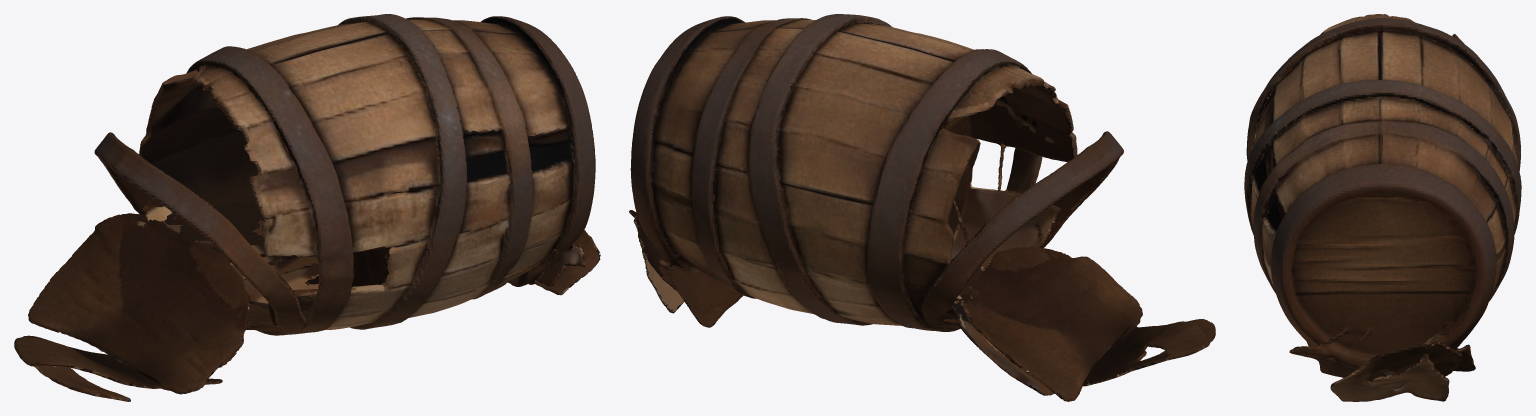
3 renders of one model, left to right at view 1: azimuth 30°, elevation 25°; view 2: azimuth 150°, elevation 25°; view 3: azimuth 270°, elevation 25°, orthographic. The views are drawn at different scales.
Parts seen in each view (by area): view 1: Hy21_Mesh.obj; view 2: Hy21_Mesh.obj; view 3: Hy21_Mesh.obj.
Part boxes in pixels (<box>): Hy21_Mesh.obj: <box>14,14,600,401</box>; Hy21_Mesh.obj: <box>629,14,1215,401</box>; Hy21_Mesh.obj: <box>1244,14,1521,401</box>.
Bounding box in the file's own units: 1.94 × 0.9915 × 0.9374.
1 material, 1 textured.
